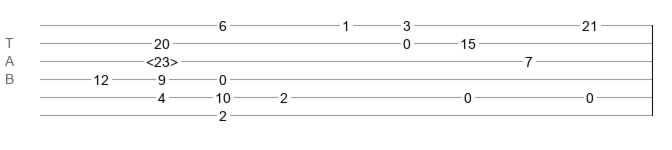0: (219, 72, 227, 82), (403, 36, 411, 46), (464, 90, 472, 100), (586, 90, 594, 100)
1: (342, 18, 350, 28)
10: (215, 90, 231, 100)
12: (93, 72, 109, 82)
15: (460, 36, 476, 46)
2: (219, 108, 227, 118), (280, 90, 288, 100)
20: (154, 36, 170, 46)
21: (582, 18, 598, 28)
3: (403, 18, 411, 28)
4: (158, 90, 166, 100)
6: (219, 18, 227, 28)
7: (525, 54, 533, 64)
9: (158, 72, 166, 82)
harmonic: (146, 54, 178, 64)
